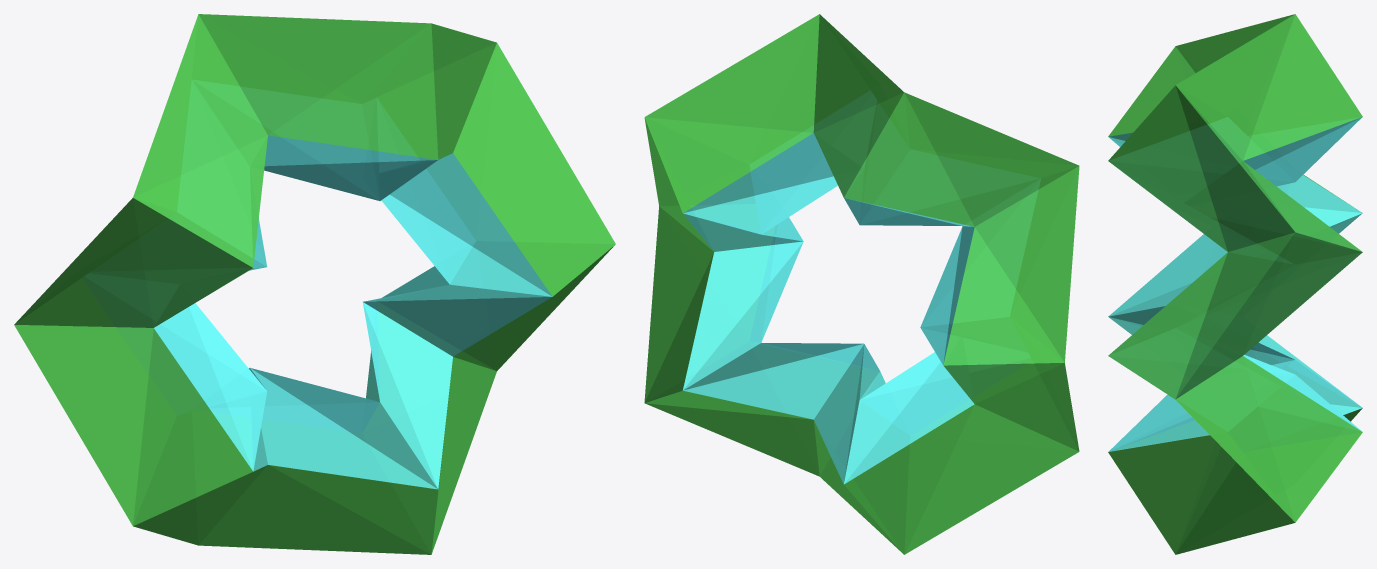
Rendered from Regular10TetragonalToroidSin.obj.
3 views of the same model, side by side, from view 1: azimuth 30°, elevation 25°; view 2: azimuth 150°, elevation 25°; view 3: azimuth 270°, elevation 25° (orthographic). The views are drawn at different scales.
Bounding box in the file's own units: 2.83 × 2.69 × 1.32.
